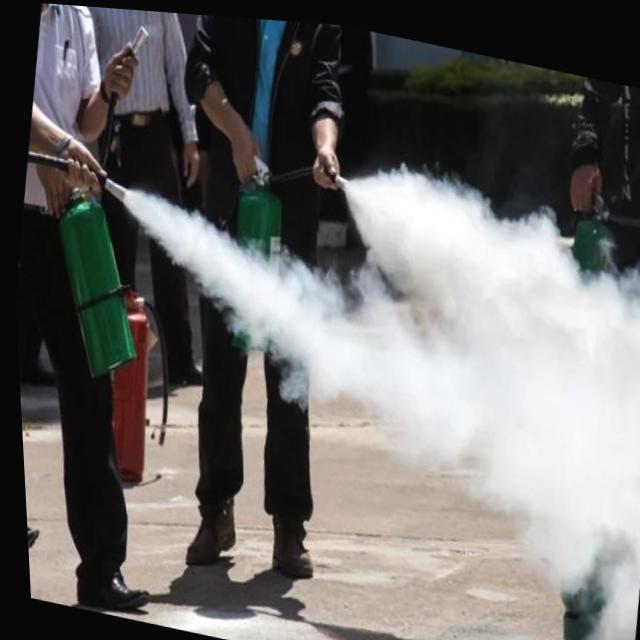FireExtinguisher: (18, 3, 184, 398), (202, 132, 373, 372), (520, 161, 640, 479), (77, 270, 189, 502)
